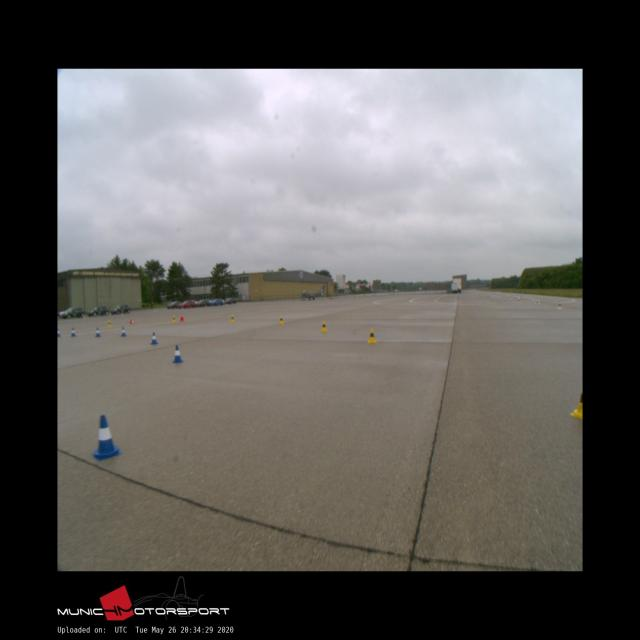blue_cone: (92, 416, 121, 460), (171, 346, 183, 363), (150, 332, 158, 345), (120, 327, 126, 337), (95, 328, 101, 337), (71, 328, 76, 336), (58, 328, 61, 336)
yellow_cone: (367, 328, 376, 342), (321, 321, 327, 332), (279, 316, 284, 324), (230, 315, 234, 322), (172, 316, 176, 322), (108, 320, 111, 328)
